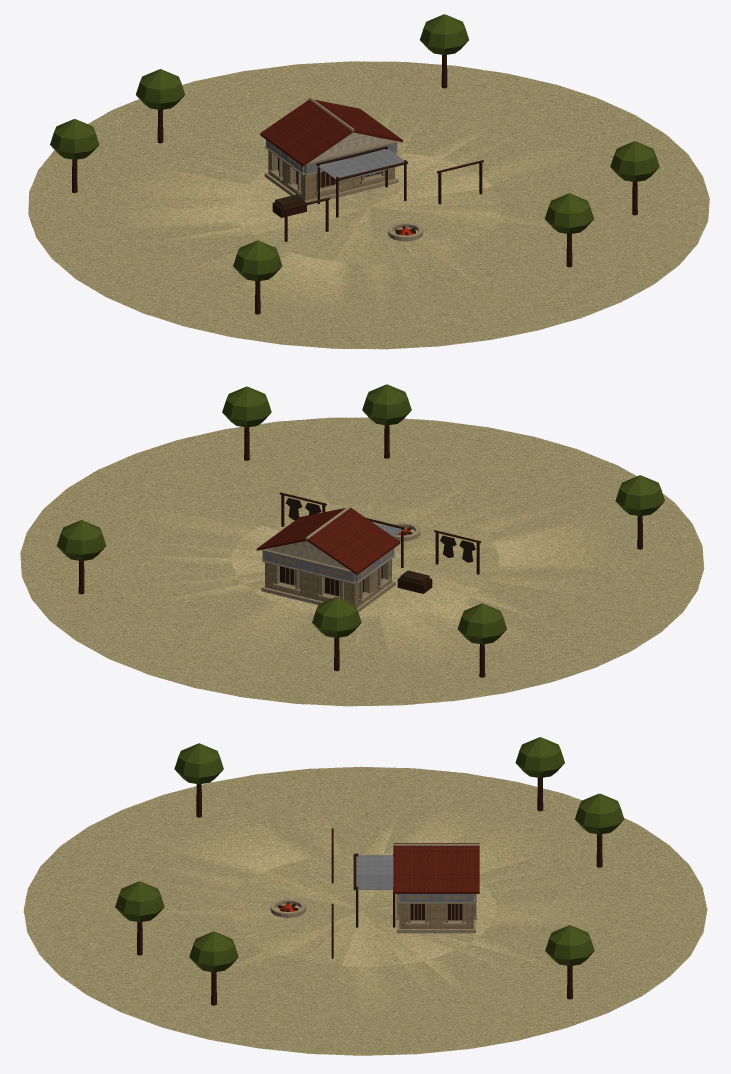
Rendered from camp-bronze.glb.
3 renders of one model, top to bottom at view 1: azimuth 30°, elevation 25°; view 2: azimuth 150°, elevation 25°; view 3: azimuth 270°, elevation 25°, orthographic.
Parts seen in each view (by area): view 1: LOD0; view 2: LOD0; view 3: LOD0.
Boxes of the visible parts, x1,y1,x2,y2 form: LOD0: (28, 14, 709, 349); LOD0: (20, 384, 704, 706); LOD0: (23, 737, 707, 1055).
Size of what is drawn, in the model's own units: 4.74 by 0.5401 by 4.74.
Materials: 3 (3 with a texture image).
